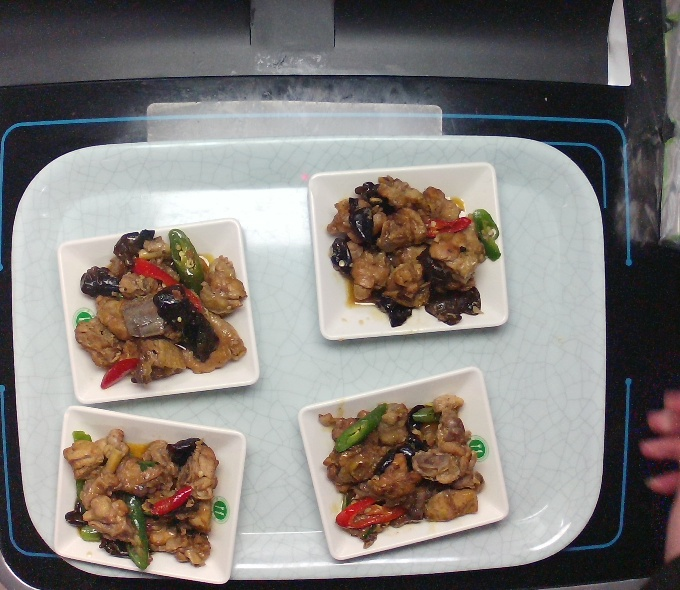wcq-LaZiJi: (321, 169, 505, 337), (71, 223, 254, 391), (310, 391, 491, 557), (60, 426, 223, 580)
